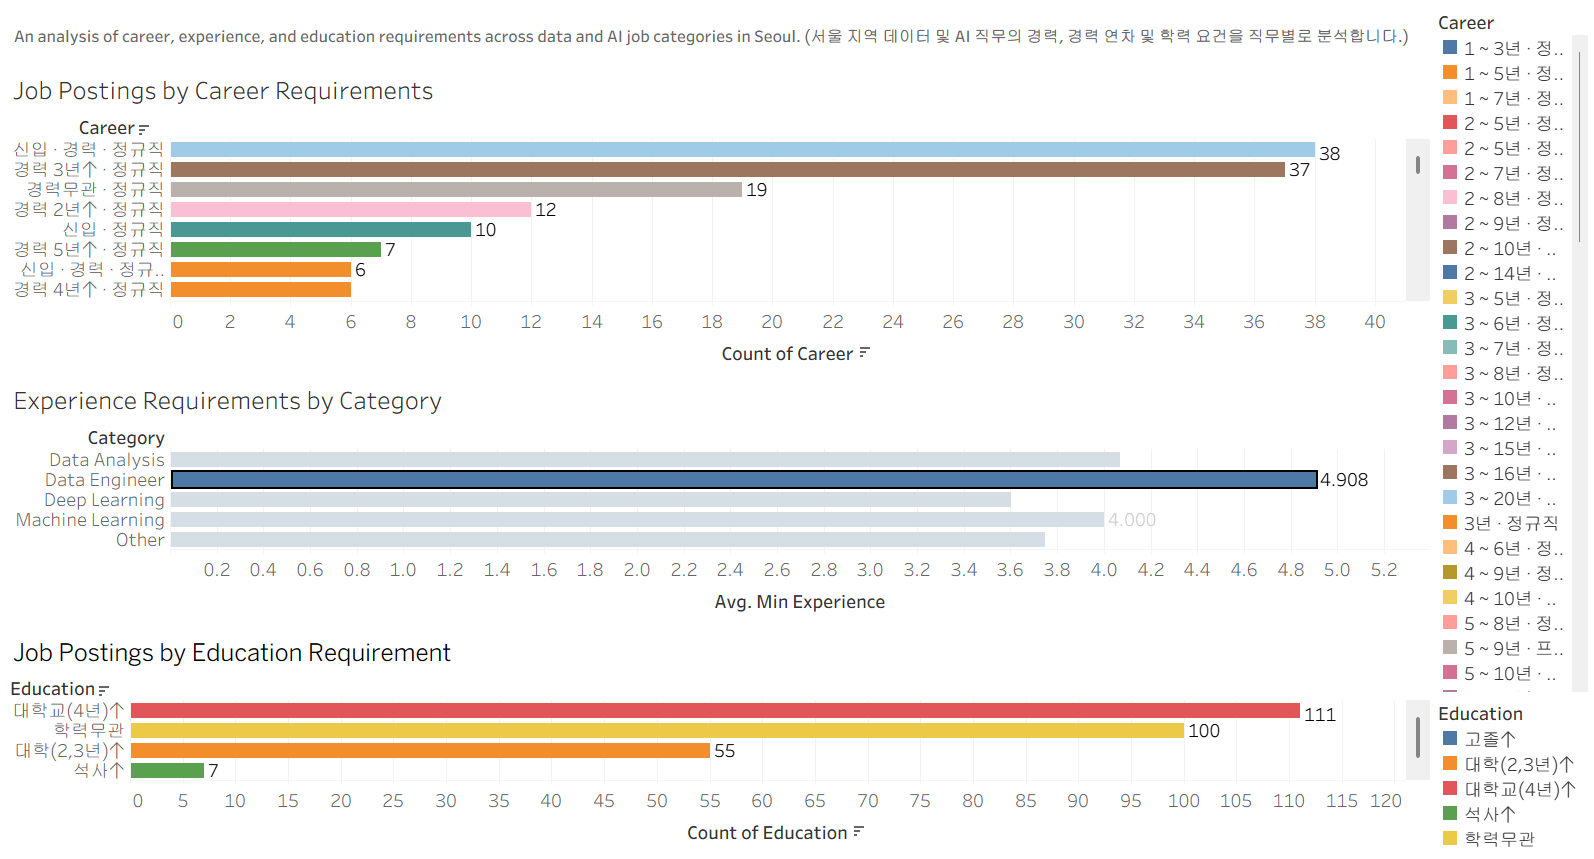

This screenshot's page, from the dashboard's own definition file:
{"tool":"tableau","page":{"name":"Seoul Data Job Market Dashboard2","canvas":[1000,1000],"units":"permille","ordinal":1},"visuals":[{"type":"text","box":[5,9.9,890.3,70.3]},{"type":"legend","title":"Career Requirements","param":"[federated.1jokoii0p9zy9811kup7k0is25gt].[none:career:nk]","box":[895.3,9.9,99.8,782.9]},{"type":"worksheet","title":"Career Requirements","mark":"Automatic","rows":["career"],"cols":["career"],"box":[5,80.2,890.3,357.4]},{"type":"worksheet","title":"Experience Requirements by Category","mark":"Automatic","rows":["category"],"cols":["Calculation_1415938633158656"],"box":[5,437.7,890.3,292.9]},{"type":"worksheet","title":"Education Requirements","mark":"Automatic","rows":["education"],"cols":["education"],"box":[5,730.6,890.3,259.5]},{"type":"legend","title":"Education Requirements","param":"[federated.1jokoii0p9zy9811kup7k0is25gt].[none:education:nk]","box":[895.3,792.8,99.8,197.3]}]}

Visuals, with their boxes on the dashboard's canvas, which has no fixed pixel size, in thousandths of its width and height (x1, y1, x2, y2). These are canvas units, not pixel positions in the 1594x859 screenshot, which may show the page scaled, cropped or inside an application window:
text: {"left": 5, "top": 10, "right": 895, "bottom": 80}
"Career Requirements" legend: {"left": 895, "top": 10, "right": 995, "bottom": 793}
"Career Requirements" worksheet: {"left": 5, "top": 80, "right": 895, "bottom": 438}
"Experience Requirements by Category" worksheet: {"left": 5, "top": 438, "right": 895, "bottom": 731}
"Education Requirements" worksheet: {"left": 5, "top": 731, "right": 895, "bottom": 990}
"Education Requirements" legend: {"left": 895, "top": 793, "right": 995, "bottom": 990}
